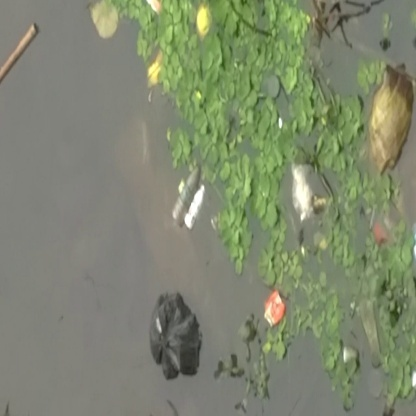bottle: (167, 164, 209, 232)
plastic-bag: (149, 293, 207, 386)
